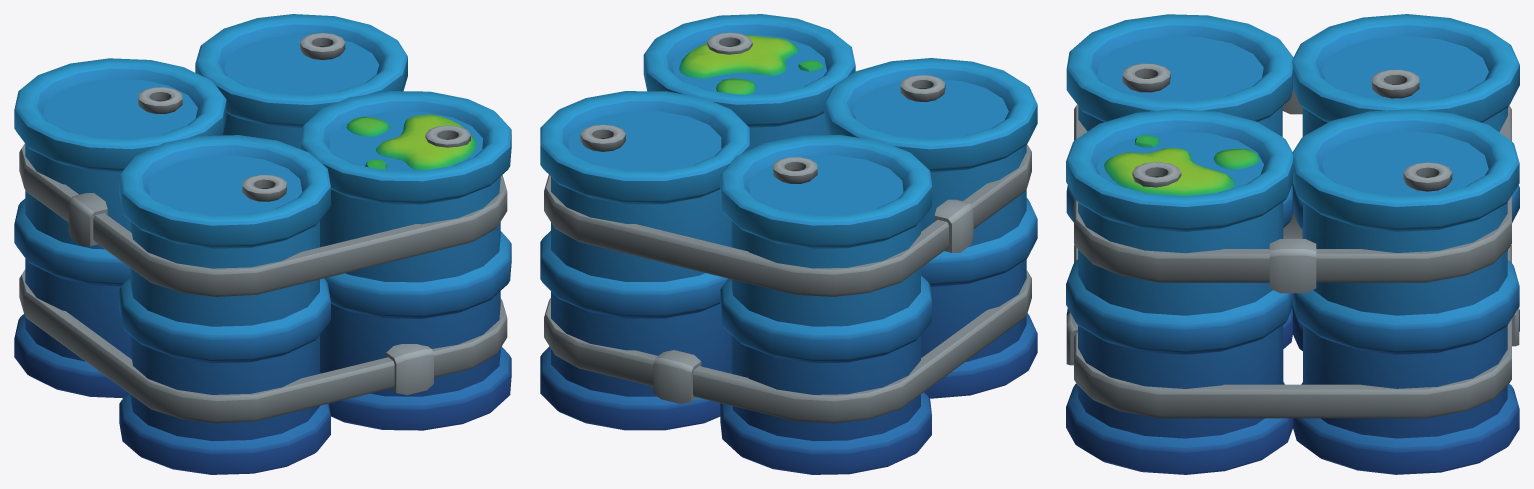
The model's file is Fuel_C_Barrels.glb.
The picture shows the model from 3 angles, left to right: view 1: azimuth 30°, elevation 25°; view 2: azimuth 150°, elevation 25°; view 3: azimuth 270°, elevation 25°; orthographic projection. The views are drawn at different scales.
Visible parts, largest first — view 1: Fuel_C_Barrels; view 2: Fuel_C_Barrels; view 3: Fuel_C_Barrels.
Part boxes in pixels (box(x1,y1,x2,y2)): Fuel_C_Barrels: box(14, 14, 511, 474); Fuel_C_Barrels: box(540, 14, 1037, 474); Fuel_C_Barrels: box(1066, 14, 1519, 474).
Bounding box in the file's own units: 1.51 × 1.01 × 1.51.
Materials: 1 (1 with a texture image).
